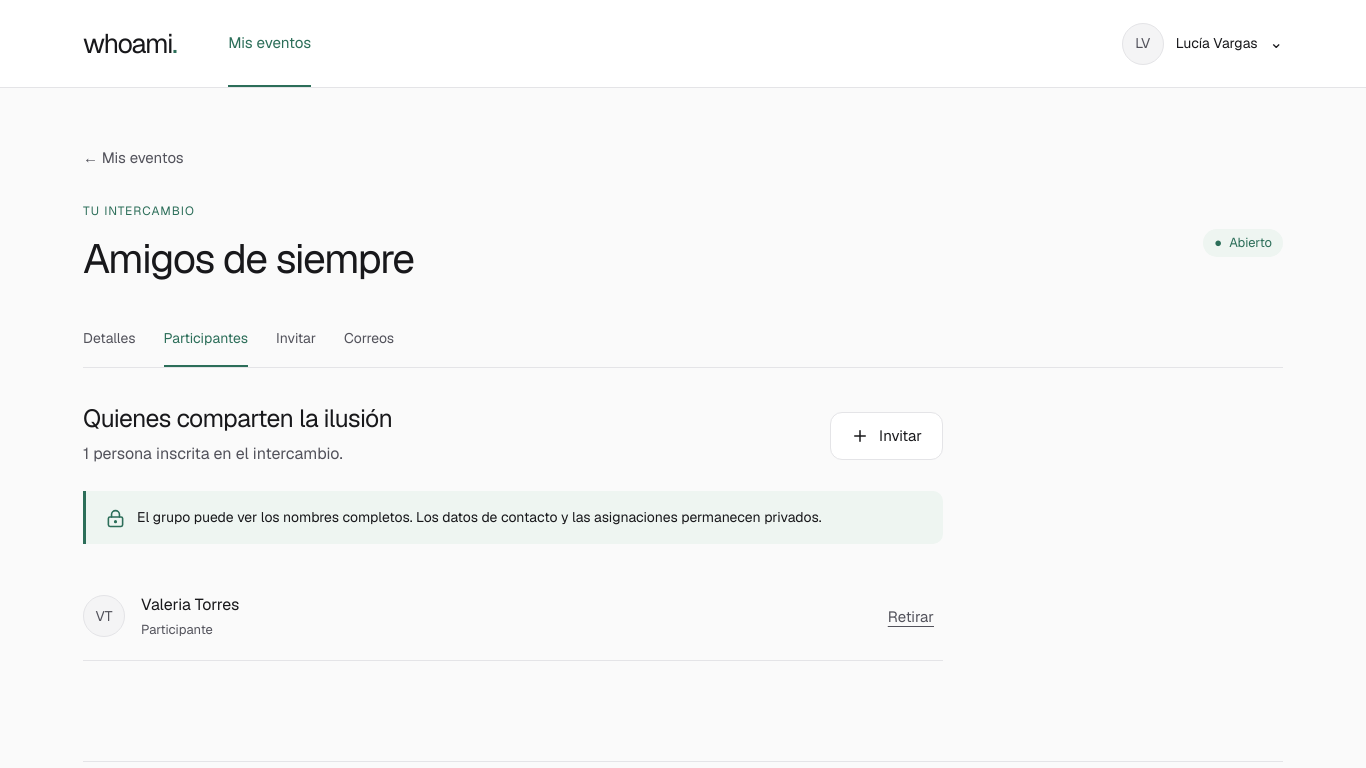
Scenario: Organizar y participar › las expulsiones requieren confirmación y no muestran datos de contacto
Step 1. Click the button with aria-label "Retirar a Valeria Torres" → (911, 616), box [879, 592, 943, 640]
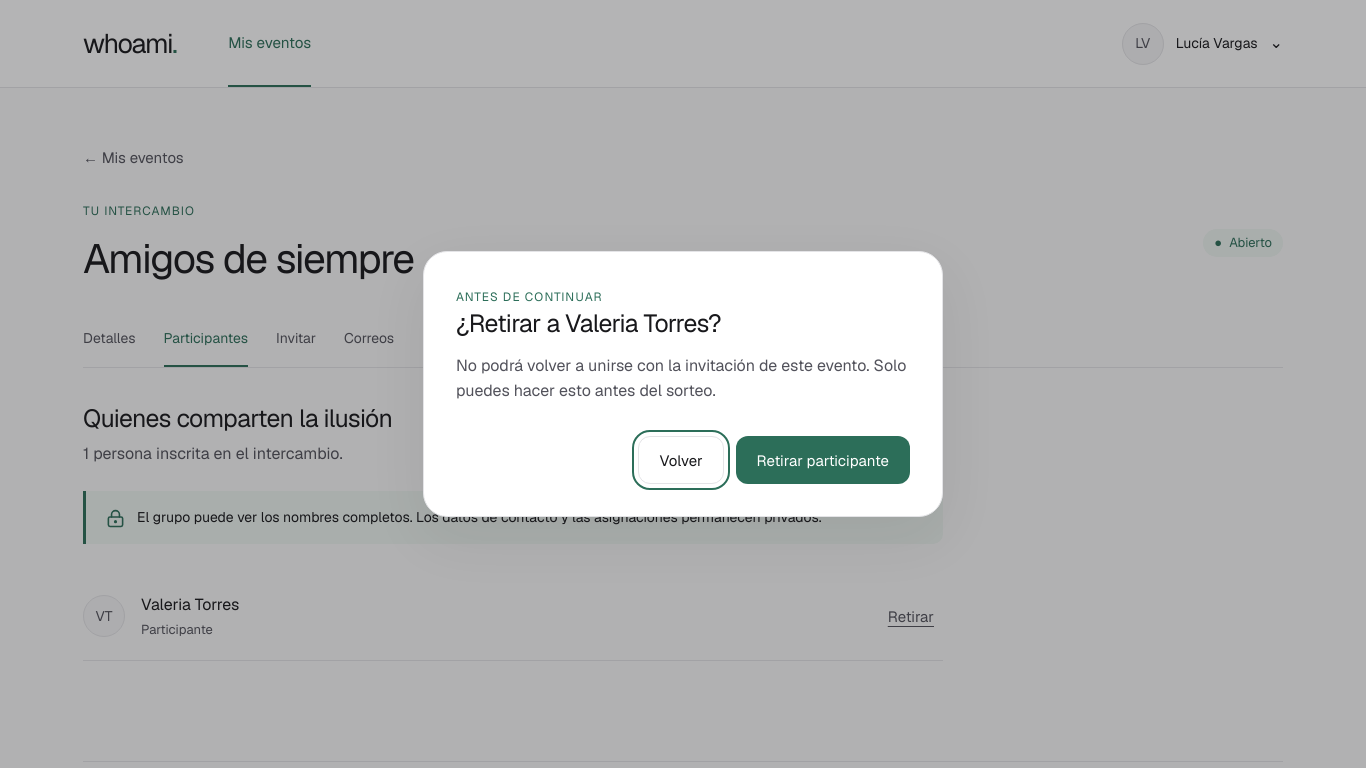
Step 2. Click the button "Retirar participante" → (823, 460), box [736, 436, 910, 484]
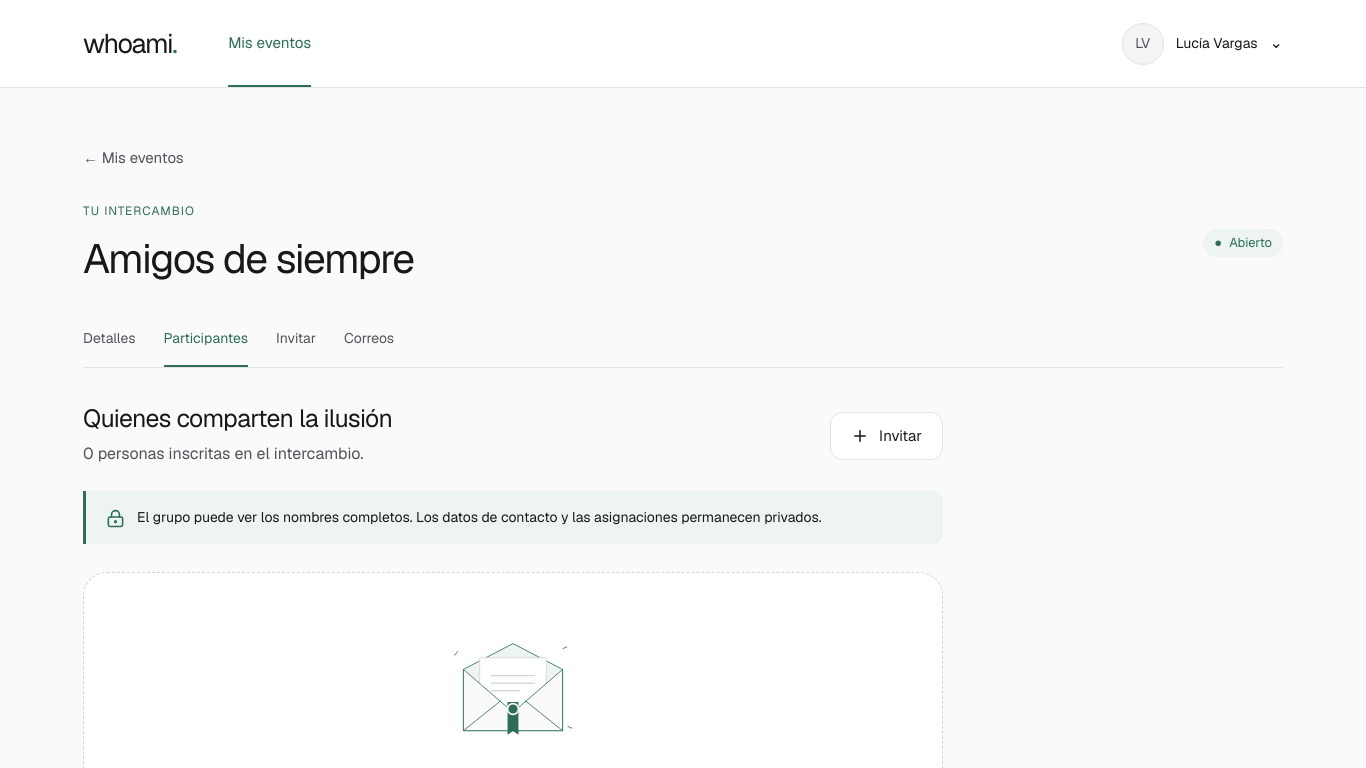
Expected: the text "Valeria Torres" is gone
